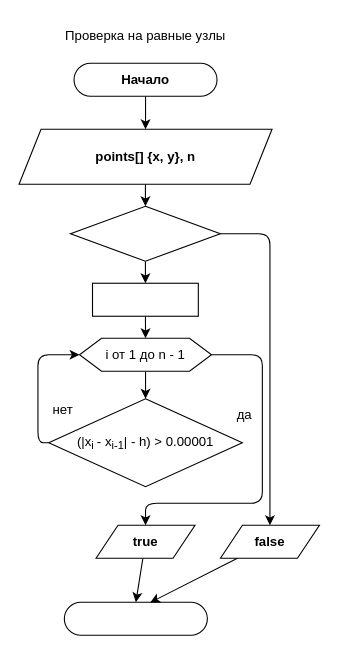
Some shapes in this 340 by 655 pixel diagram are drawn without their labels. Each missing label, with the centre of its shape:
h = x 1 - x 0: the point at 144,299
n < 2: the point at 144,233
Конец: the point at 135,618
